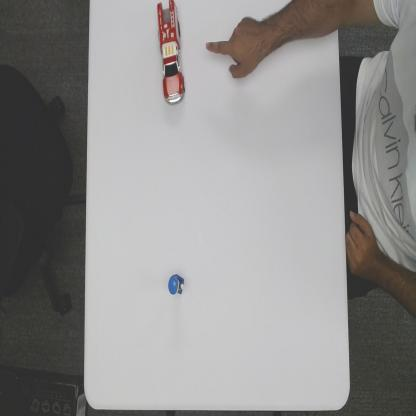Arm: (262, 0, 338, 53)
Firetruck: (156, 0, 186, 107)
Hand: (204, 16, 264, 80)
